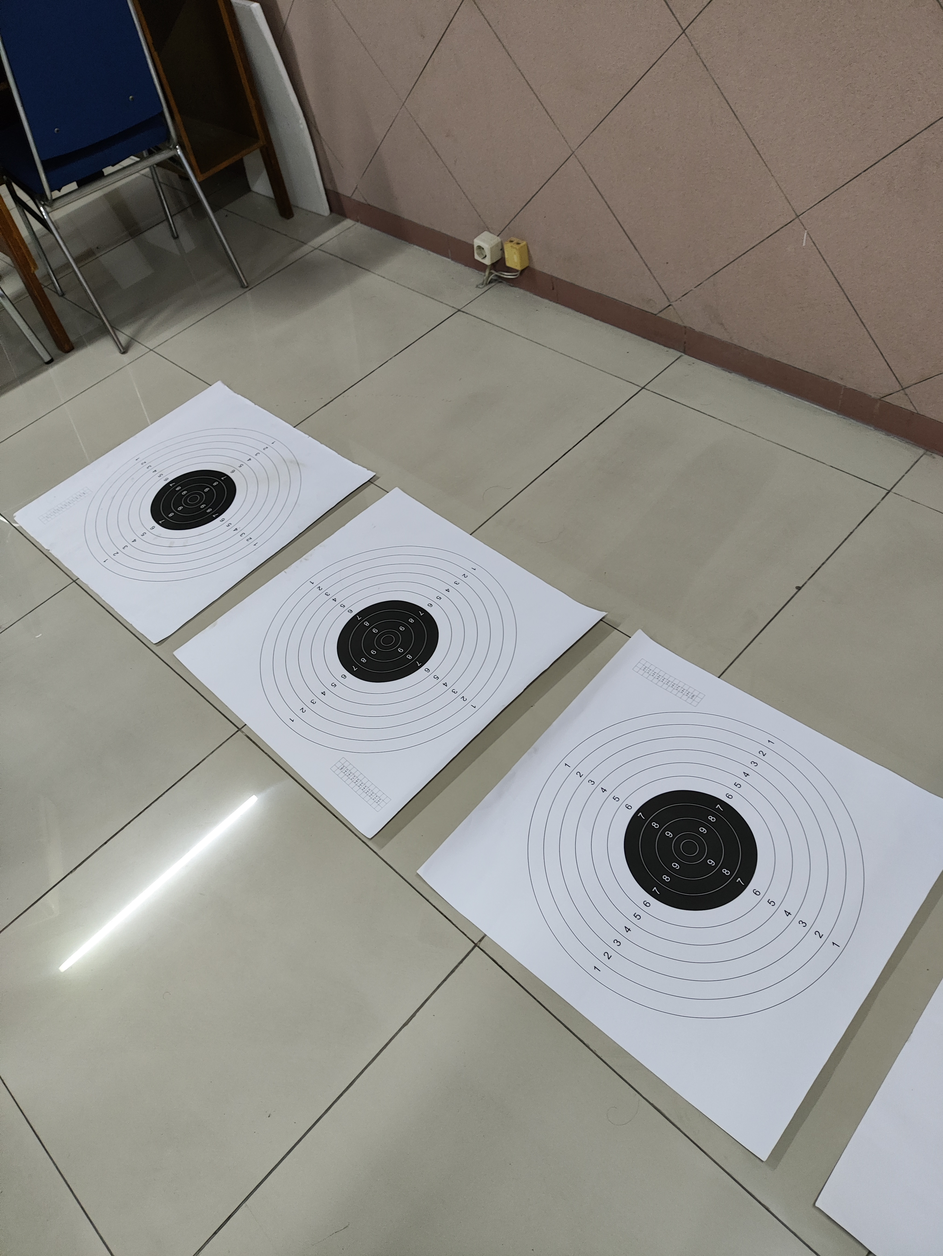target: (511, 684, 872, 1027), (247, 513, 511, 752), (73, 402, 307, 600)
